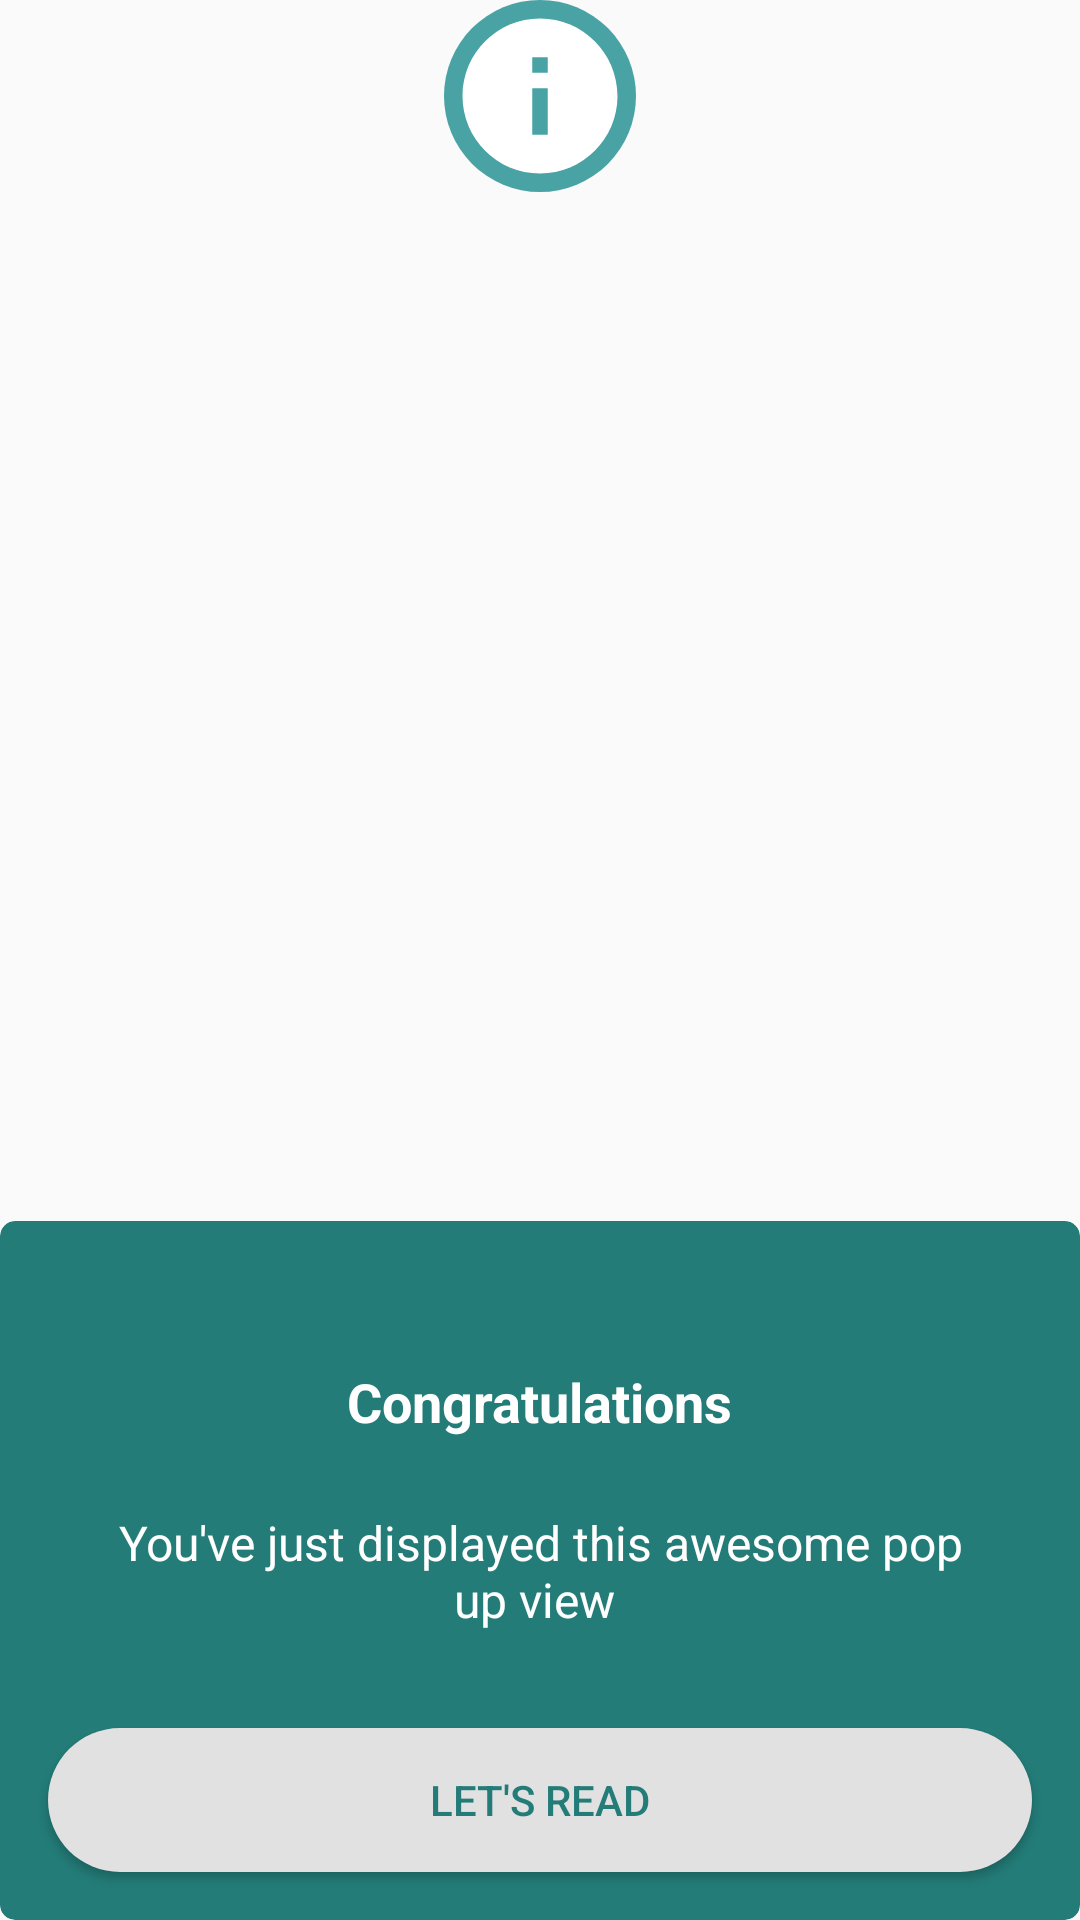

Point at icon controls on the screen. Image size 1080*1920, points as (x,y).
info: (540,96)
